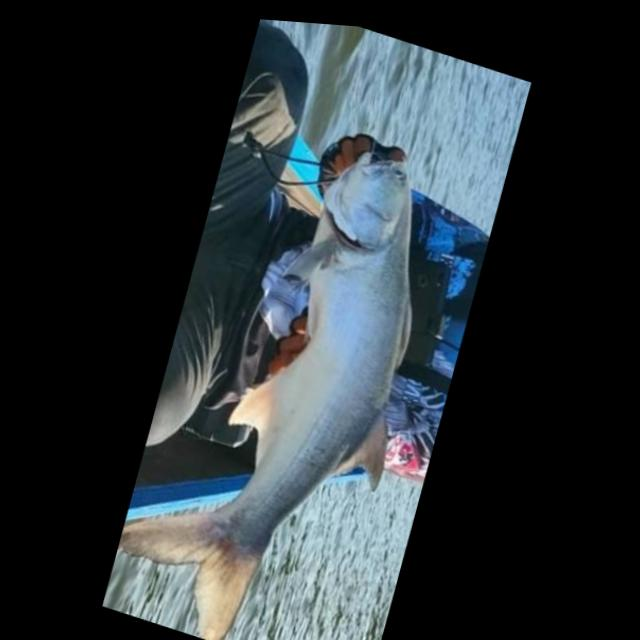Seabass: (100, 99, 462, 640)
